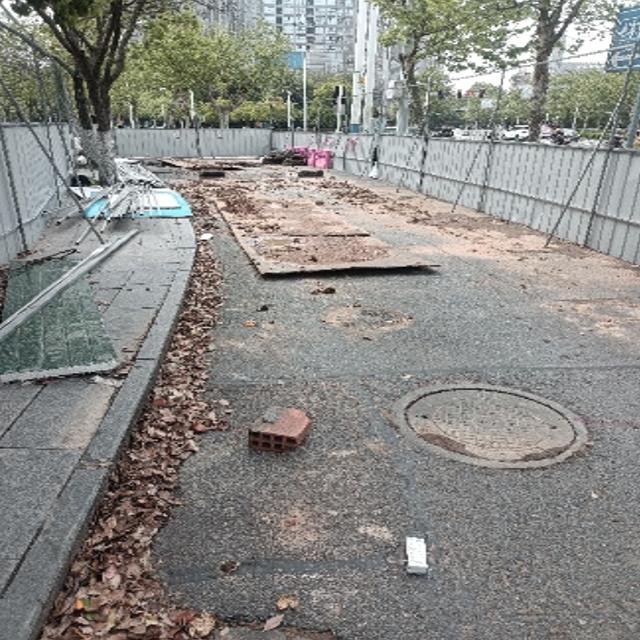good: (393, 382, 588, 466)
